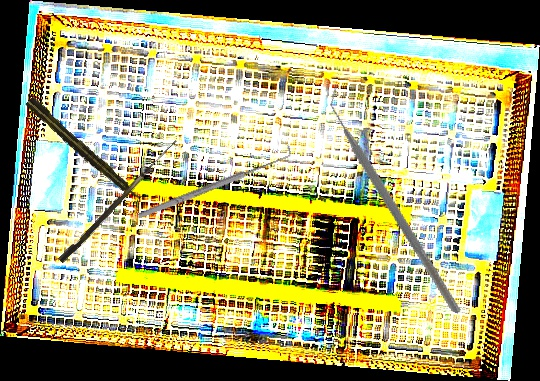Chopper: (266, 83, 528, 315)
Handpiece: (24, 95, 144, 205)
Hook Surgical: (57, 134, 178, 266), (133, 143, 296, 223)
